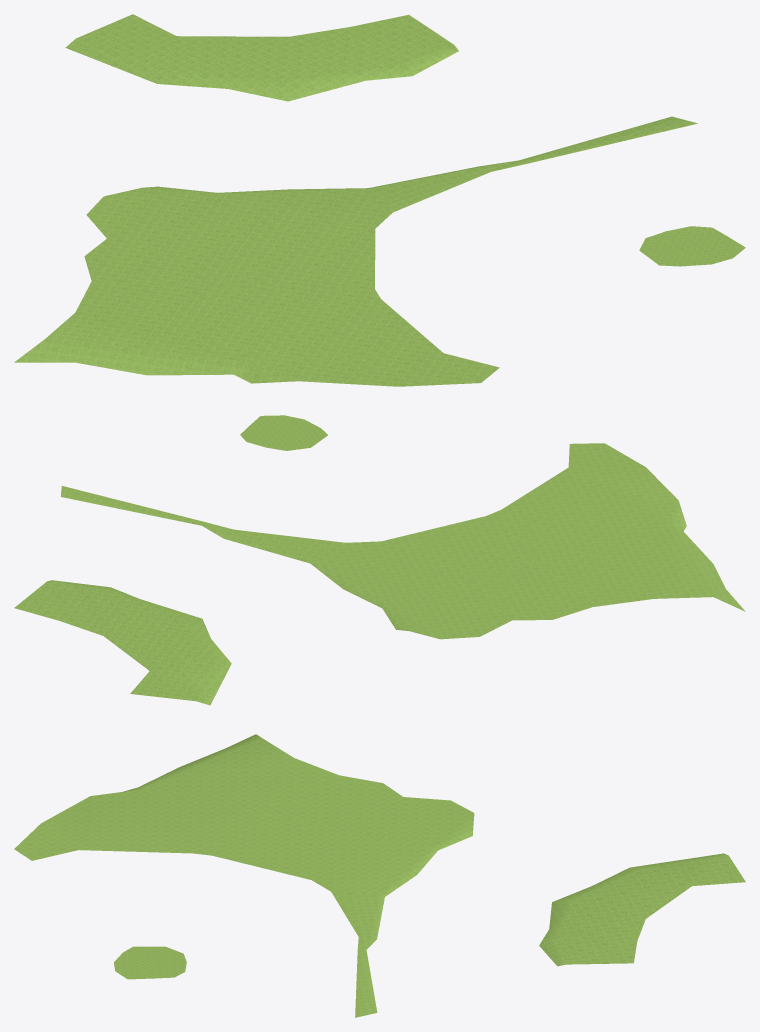
Rendered from kd_stage_1364a3_9_3_bounded.glb.
The picture shows the model from 3 angles, top to bottom: view 1: azimuth 30°, elevation 25°; view 2: azimuth 150°, elevation 25°; view 3: azimuth 270°, elevation 25°; orthographic projection. The views are drawn at different scales.
Parts seen in each view (by area): view 1: kd_stage_1364a3_9_3_bounded; view 2: kd_stage_1364a3_9_3_bounded; view 3: kd_stage_1364a3_9_3_bounded.
Part boxes in pixels (left/top/right/bottom): kd_stage_1364a3_9_3_bounded: left=14, top=14, right=745, bottom=386; kd_stage_1364a3_9_3_bounded: left=14, top=415, right=745, bottom=705; kd_stage_1364a3_9_3_bounded: left=14, top=734, right=745, bottom=1017.
Bounding box in the file's own units: 57.11 × 1.66 × 60.21.
1 material, 1 textured.
